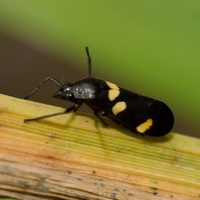insect: (24, 47, 173, 135)
